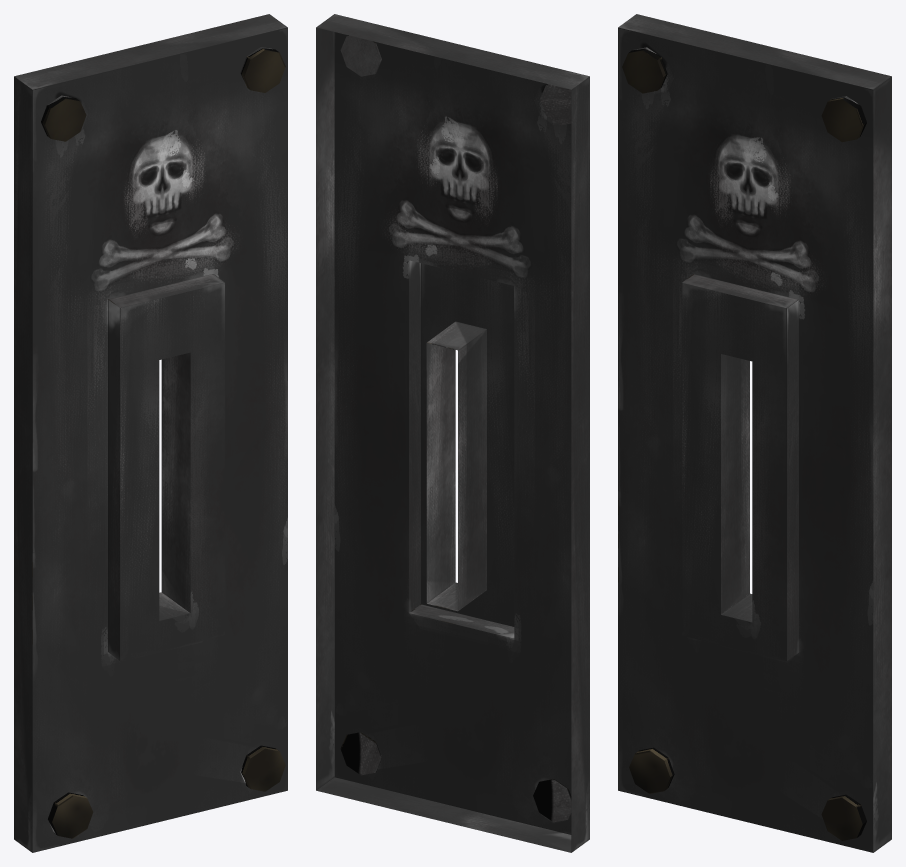
3 renders of one model, left to right at view 1: azimuth 30°, elevation 25°; view 2: azimuth 150°, elevation 25°; view 3: azimuth 330°, elevation 25°, orthographic.
Visible parts, largest first — view 1: Circle.003; view 2: Circle.003; view 3: Circle.003.
Boxes of the visible parts, x1,y1,x2,y2 form: Circle.003: (14, 14, 287, 852); Circle.003: (316, 14, 589, 852); Circle.003: (618, 14, 891, 852).
Bounding box in the file's own units: 280 × 800 × 57.75.
Materials: 1 (1 with a texture image).
